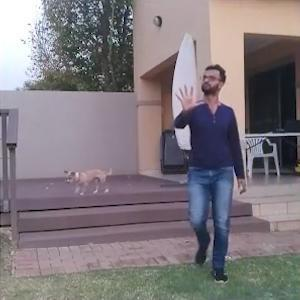follow_hand: (173, 81, 203, 116)
